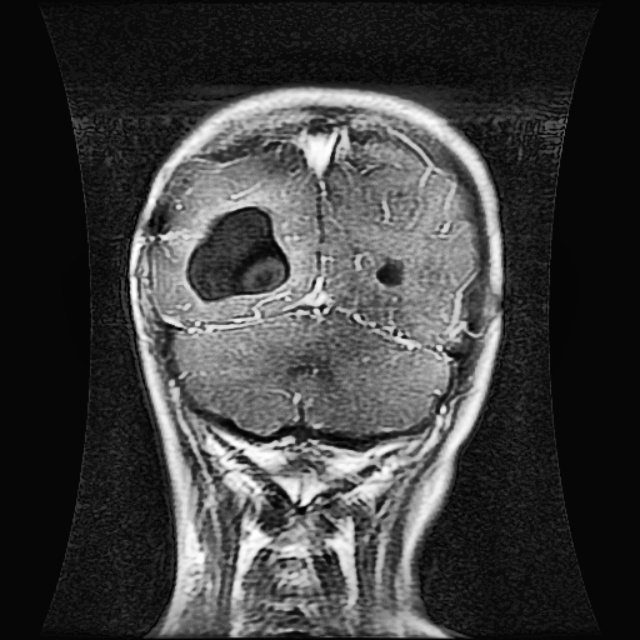Meningioma: (182, 203, 294, 302)
